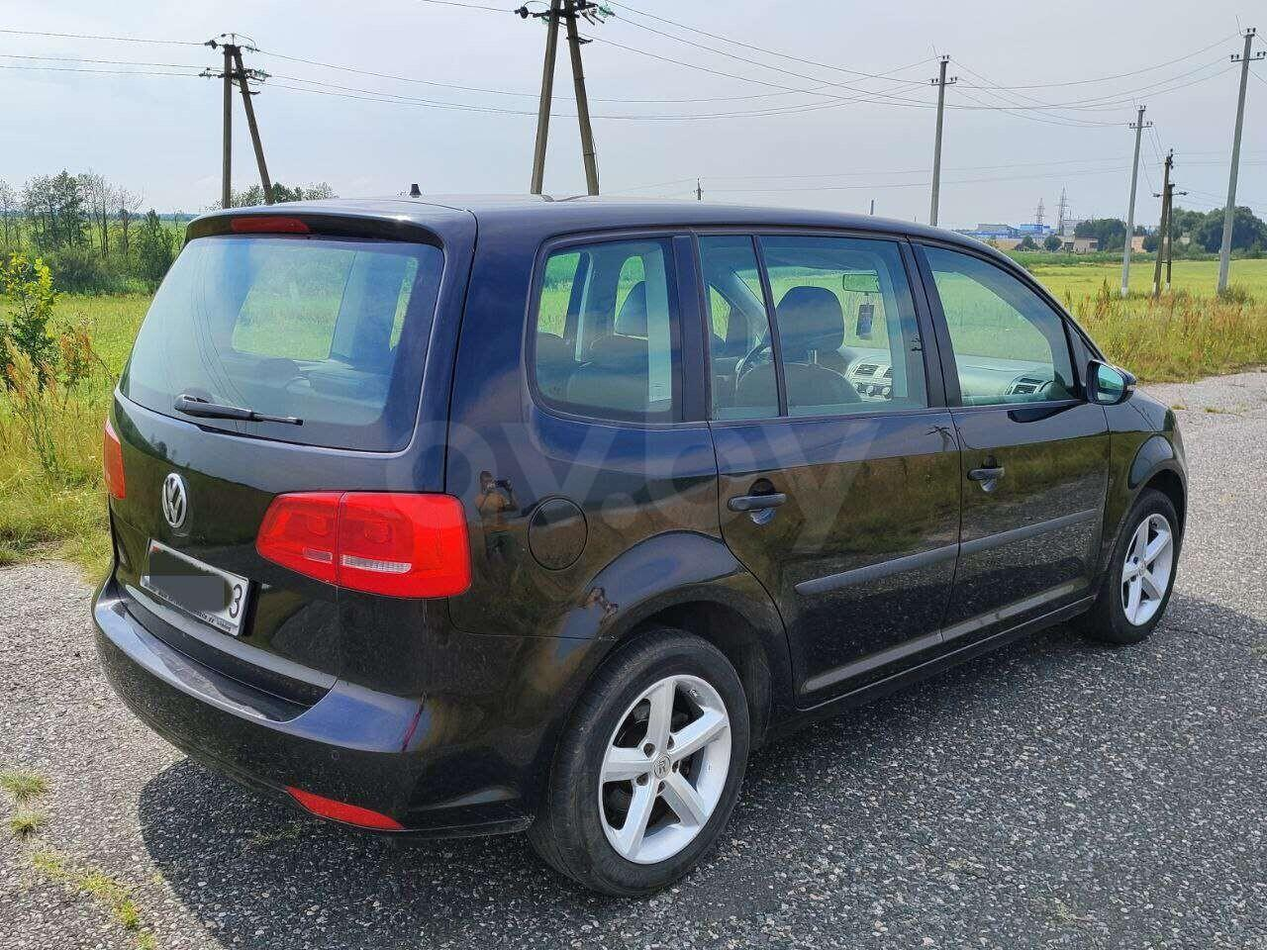Touran_2010-2015: (93, 192, 1201, 898)
